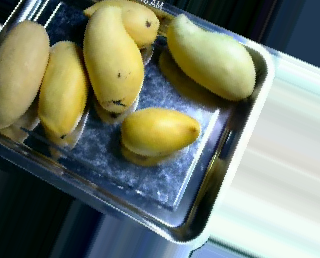Mango: (166, 10, 257, 103), (82, 5, 145, 115), (0, 16, 53, 132), (36, 37, 87, 142), (120, 103, 202, 157), (82, 0, 161, 49)
